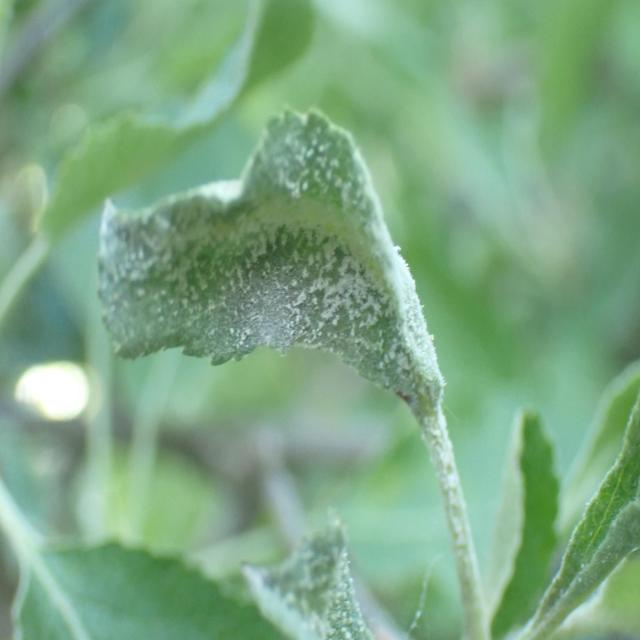Powdery_mildew: (80, 97, 457, 469), (524, 384, 640, 639), (225, 514, 383, 640)
